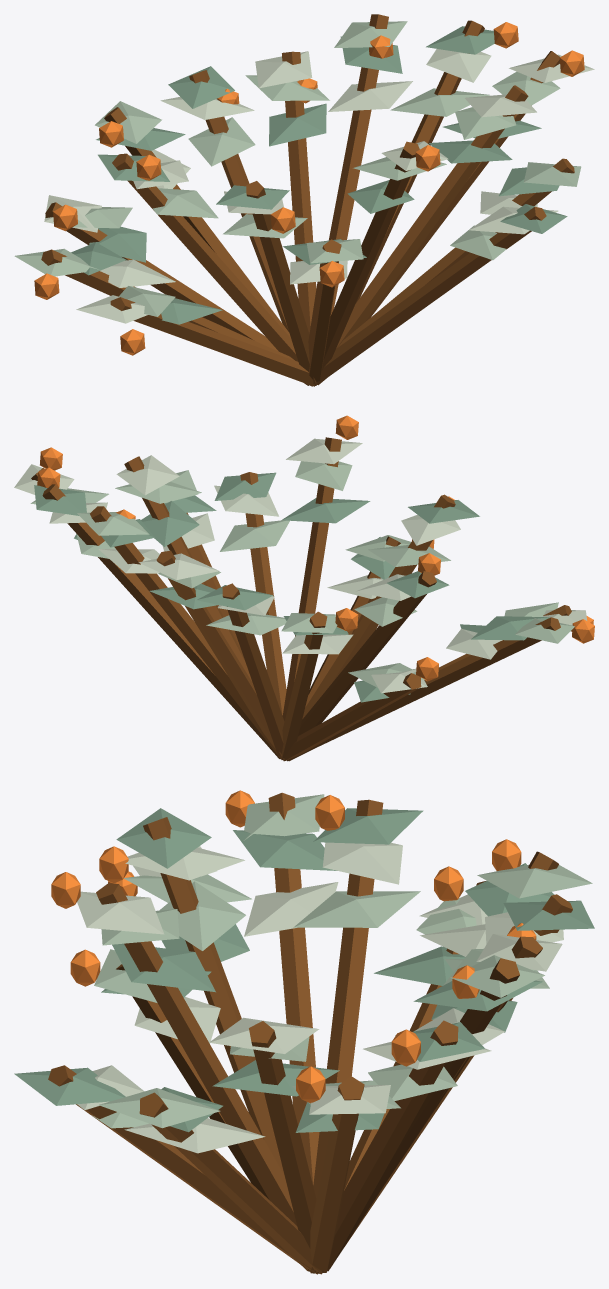
Rendered from silver_saltbush.glb.
3 views of the same model, one above another, from view 1: azimuth 30°, elevation 25°; view 2: azimuth 150°, elevation 25°; view 3: azimuth 270°, elevation 25° (orthographic). The views are drawn at different scales.
Parts seen in each view (by area): view 1: Saltbush_Stem_16, Saltbush_Stem_14, Saltbush_Stem_8, Saltbush_Stem_13, Saltbush_Stem_10, Saltbush_Stem_3, Saltbush_Stem_4, Saltbush_Stem_11, Saltbush_Stem_7, Saltbush_Stem_15, Saltbush_Stem_12, Saltbush_Stem_5 (+58 smaller); view 2: Saltbush_Stem_2, Saltbush_Stem_3, Saltbush_Stem_8, Saltbush_Stem_4, Saltbush_Stem_9, Saltbush_Stem_13, Saltbush_Stem_5, Saltbush_Stem_14, Saltbush_Stem_7, Saltbush_Stem_6, Saltbush_Stem_11, Saltbush_Stem_16 (+41 smaller); view 3: Saltbush_Stem_13, Saltbush_Stem_8, Saltbush_Stem_2, Saltbush_Stem_15, Saltbush_Stem_9, Saltbush_Stem_16, Saltbush_Stem_11, Saltbush_Stem_1, Saltbush_Stem_14, Saltbush_Leaf_8_1, Saltbush_Stem_3, Saltbush_Leaf_9_1 (+52 smaller).
Part boxes in pixels (x1,y1,x2,y2): Saltbush_Stem_16: [336, 85, 528, 348]; Saltbush_Stem_14: [315, 206, 546, 385]; Saltbush_Stem_8: [112, 153, 298, 361]; Saltbush_Stem_13: [313, 141, 419, 383]; Saltbush_Stem_10: [110, 297, 314, 386]; Saltbush_Stem_3: [328, 14, 388, 315]; Saltbush_Stem_4: [282, 51, 316, 333]; Saltbush_Stem_11: [246, 181, 316, 384]; Saltbush_Stem_7: [45, 202, 308, 385]; Saltbush_Stem_15: [318, 158, 574, 385]; Saltbush_Stem_12: [308, 239, 341, 383]; Saltbush_Stem_5: [189, 70, 288, 331]; Saltbush_Stem_2: [42, 484, 280, 758]; Saltbush_Stem_3: [90, 506, 281, 759]; Saltbush_Stem_8: [287, 571, 436, 760]; Saltbush_Stem_4: [156, 550, 284, 759]; Saltbush_Stem_9: [287, 617, 560, 761]; Saltbush_Stem_13: [282, 437, 341, 721]; Saltbush_Stem_5: [222, 583, 288, 759]; Saltbush_Stem_14: [240, 472, 286, 715]; Saltbush_Stem_7: [283, 673, 421, 761]; Saltbush_Stem_6: [281, 611, 327, 759]; Saltbush_Stem_11: [302, 494, 455, 718]; Saltbush_Stem_16: [124, 456, 252, 681]; Saltbush_Stem_13: [96, 883, 310, 1270]; Saltbush_Stem_8: [313, 799, 383, 1198]; Saltbush_Stem_2: [313, 1020, 458, 1273]; Saltbush_Stem_15: [139, 1092, 322, 1274]; Saltbush_Stem_9: [268, 792, 319, 1185]; Saltbush_Stem_16: [249, 1021, 324, 1272]; Saltbush_Stem_11: [143, 817, 284, 1175]; Saltbush_Stem_1: [310, 1076, 364, 1273]; Saltbush_Stem_14: [48, 1065, 318, 1274]; Saltbush_Leaf_8_1: [293, 891, 420, 927]; Saltbush_Stem_3: [317, 958, 519, 1273]; Saltbush_Leaf_9_1: [244, 882, 338, 936].
Size of the model in its own units: 2.05 by 1.01 by 1.27.
